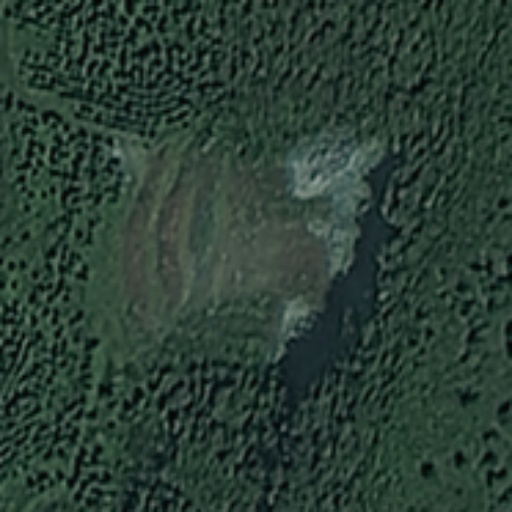landslide: (286, 132, 387, 275)
